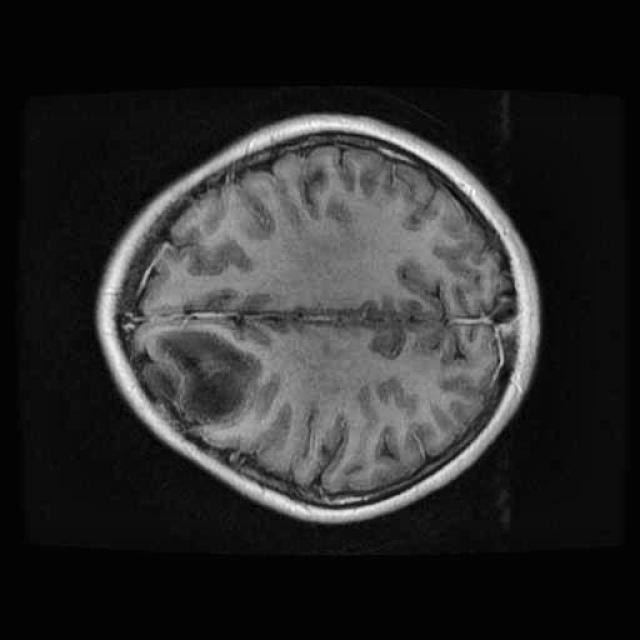Tumor: (132, 310, 282, 449)
